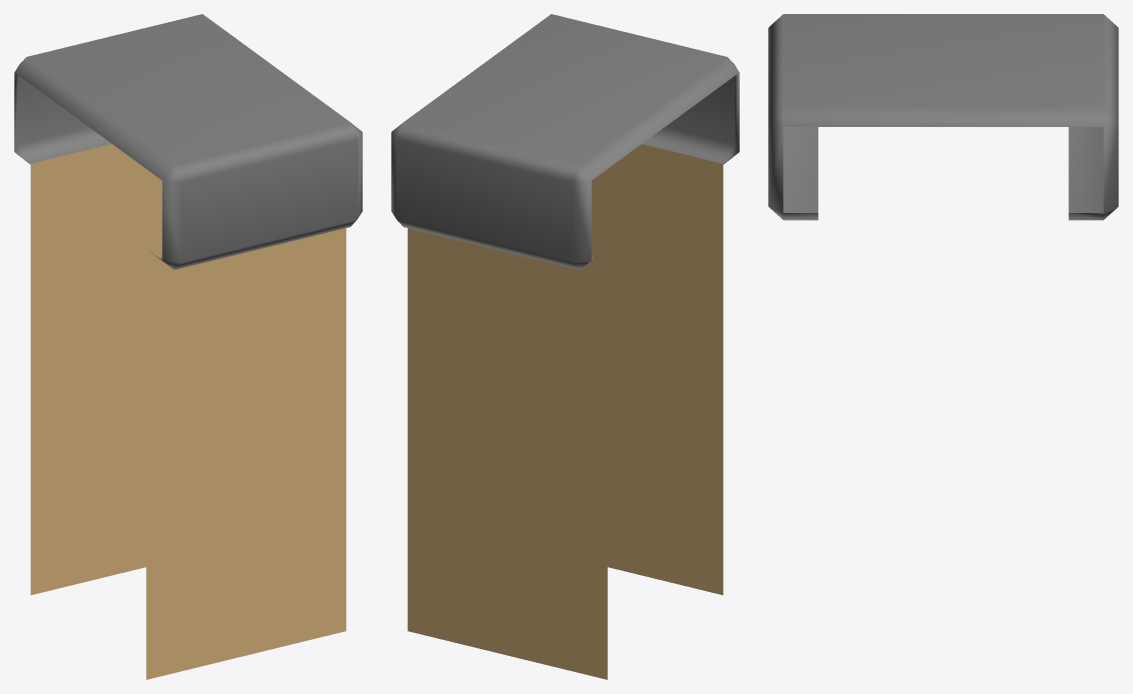
Rendered from SM_Wall_1x2_LOD0.fbx.
The picture shows the model from 3 angles, left to right: view 1: azimuth 30°, elevation 25°; view 2: azimuth 150°, elevation 25°; view 3: azimuth 270°, elevation 25°; orthographic projection. The views are drawn at different scales.
Parts seen in each view (by area): view 1: SM_Wall_1x2_LOD0; view 2: SM_Wall_1x2_LOD0; view 3: SM_Wall_1x2_LOD0.
Boxes of the visible parts, left/top/right/bottom form: SM_Wall_1x2_LOD0: left=14, top=14, right=362, bottom=679; SM_Wall_1x2_LOD0: left=391, top=14, right=739, bottom=679; SM_Wall_1x2_LOD0: left=768, top=14, right=1118, bottom=220.
Bounding box in the file's own units: 1 × 2.5 × 1.4.
